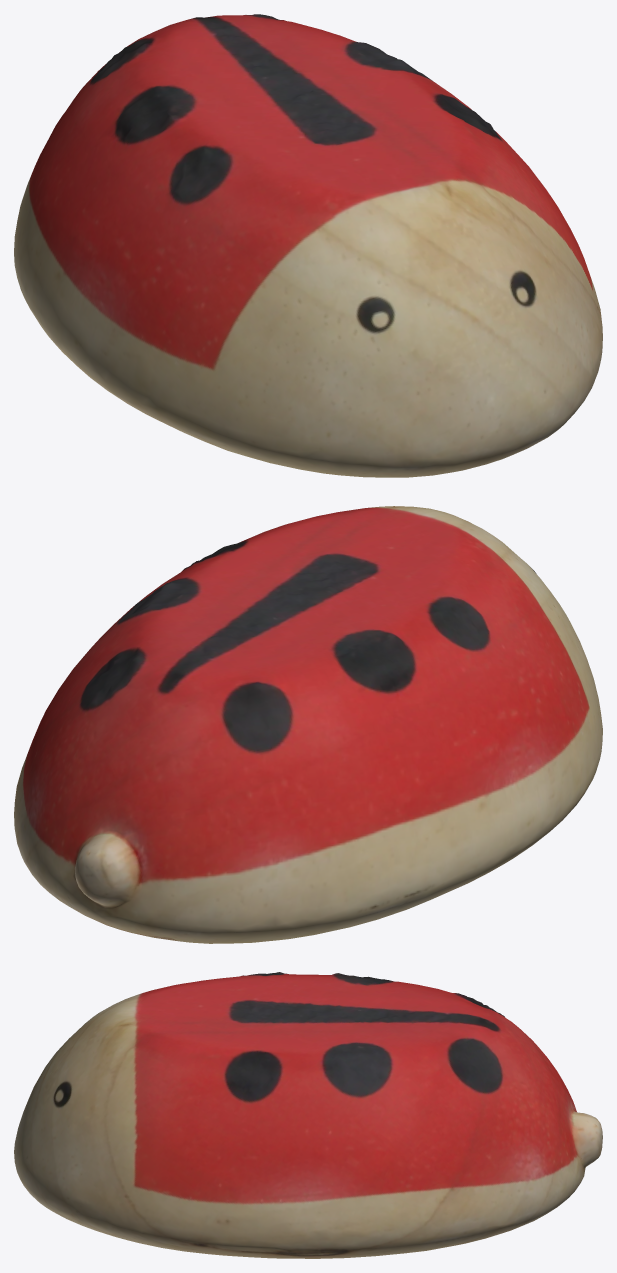
File: LADYBUG_BEAD.glb
3 renders of one model, top to bottom at view 1: azimuth 30°, elevation 25°; view 2: azimuth 150°, elevation 25°; view 3: azimuth 270°, elevation 25°, orthographic. The views are drawn at different scales.
Visible parts, largest first — view 1: LADYBUG_BEAD; view 2: LADYBUG_BEAD; view 3: LADYBUG_BEAD.
Part boxes in pixels (left/top/right/bottom): LADYBUG_BEAD: left=14, top=14, right=602, bottom=477; LADYBUG_BEAD: left=14, top=506, right=602, bottom=943; LADYBUG_BEAD: left=14, top=972, right=602, bottom=1258.
Size of the model in its own units: 0.0572 by 0.0303 by 0.0842.
1 material, 1 textured.
